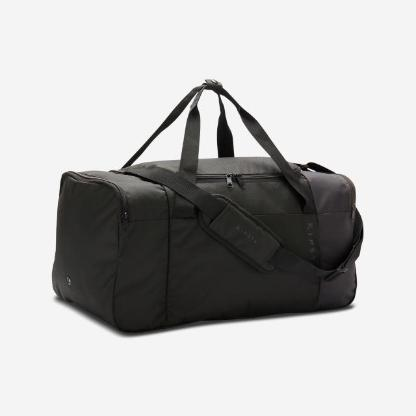bag: (46, 73, 367, 337)
